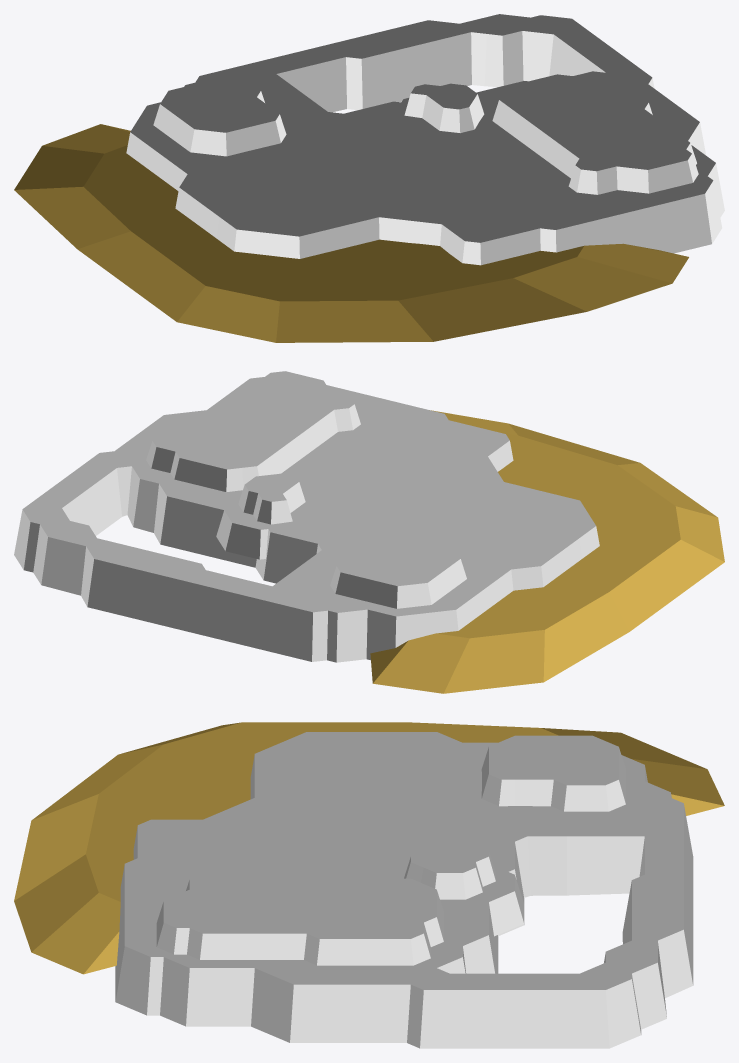
File: islands.glb
The picture shows the model from 3 angles, top to bottom: view 1: azimuth 30°, elevation 25°; view 2: azimuth 150°, elevation 25°; view 3: azimuth 270°, elevation 25°; orthographic projection. The views are drawn at different scales.
Parts seen in each view (by area): view 1: island3, island2, island1; view 2: island3, island2; view 3: island3, island2, island1.
Boxes of the visible parts, x1,y1,x2,y2 form: island3: (14, 14, 724, 342); island2: (332, 83, 528, 183); island1: (380, 118, 472, 163); island3: (14, 371, 724, 693); island2: (216, 457, 418, 559); island3: (14, 722, 724, 1048); island2: (293, 820, 524, 936); island1: (333, 836, 457, 878).
Bounding box in the file's own units: 57.48 × 6.8 × 54.69.
